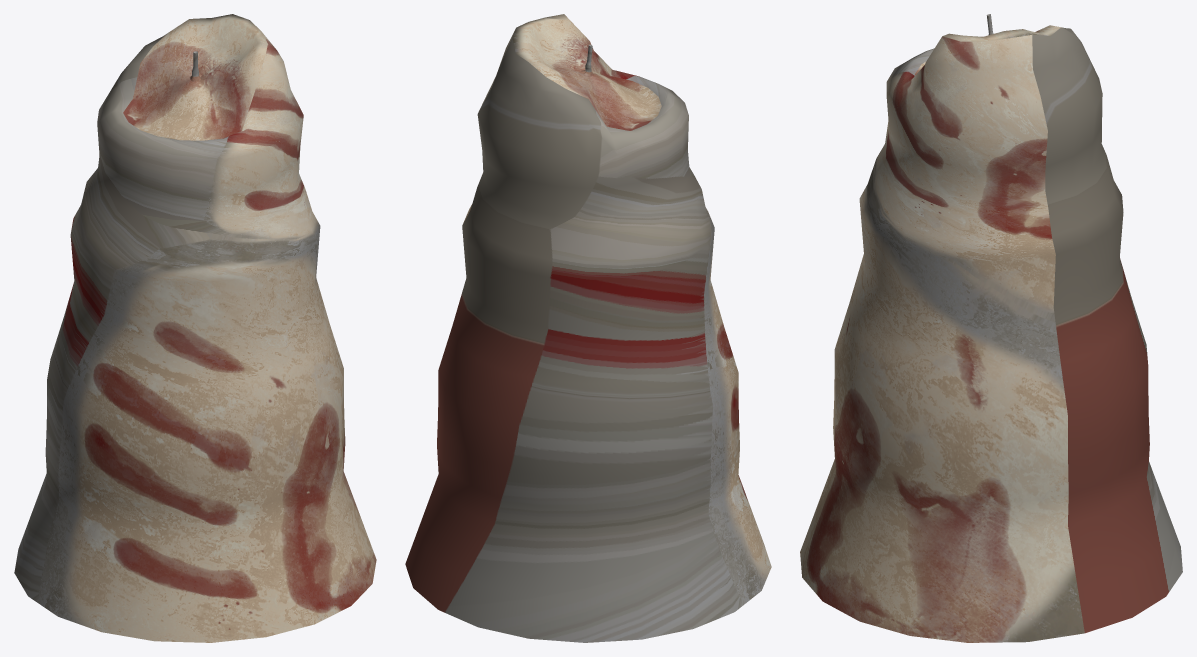
The model's file is candle2.fbx.
3 renders of one model, left to right at view 1: azimuth 30°, elevation 25°; view 2: azimuth 150°, elevation 25°; view 3: azimuth 270°, elevation 25°, orthographic. The views are drawn at different scales.
Parts seen in each view (by area): view 1: pCylinder1; view 2: pCylinder1; view 3: pCylinder1.
Boxes of the visible parts, x1=… form: pCylinder1: x1=14, y1=14, x2=376, y2=642; pCylinder1: x1=405, y1=14, x2=771, y2=642; pCylinder1: x1=800, y1=14, x2=1182, y2=642.
Bounding box in the file's own units: 3.85 × 6.19 × 3.85.
